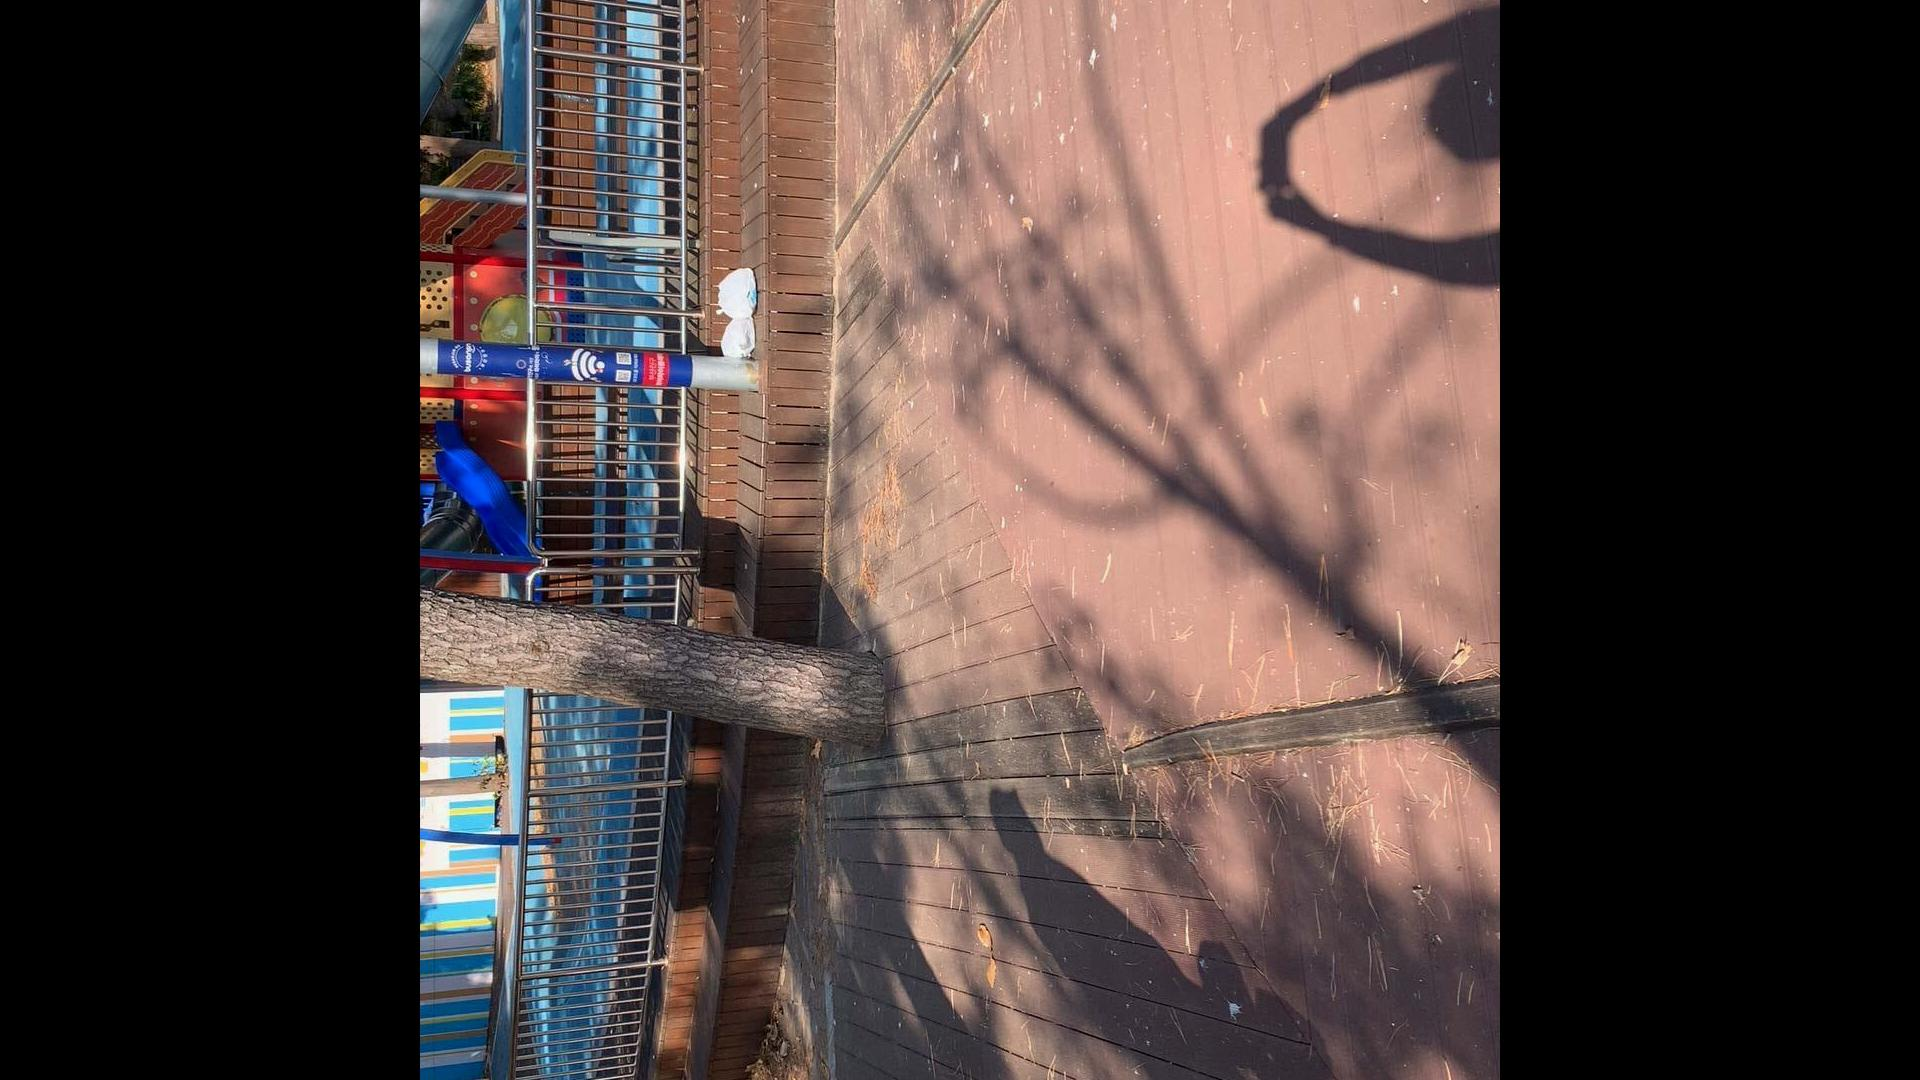white_bag: (711, 265, 758, 320), (717, 318, 756, 363)
